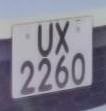0: (70, 48, 88, 90)
2: (19, 55, 37, 100), (36, 56, 54, 95)
6: (53, 54, 71, 91)
U: (35, 20, 54, 60)
X: (54, 17, 73, 59)
